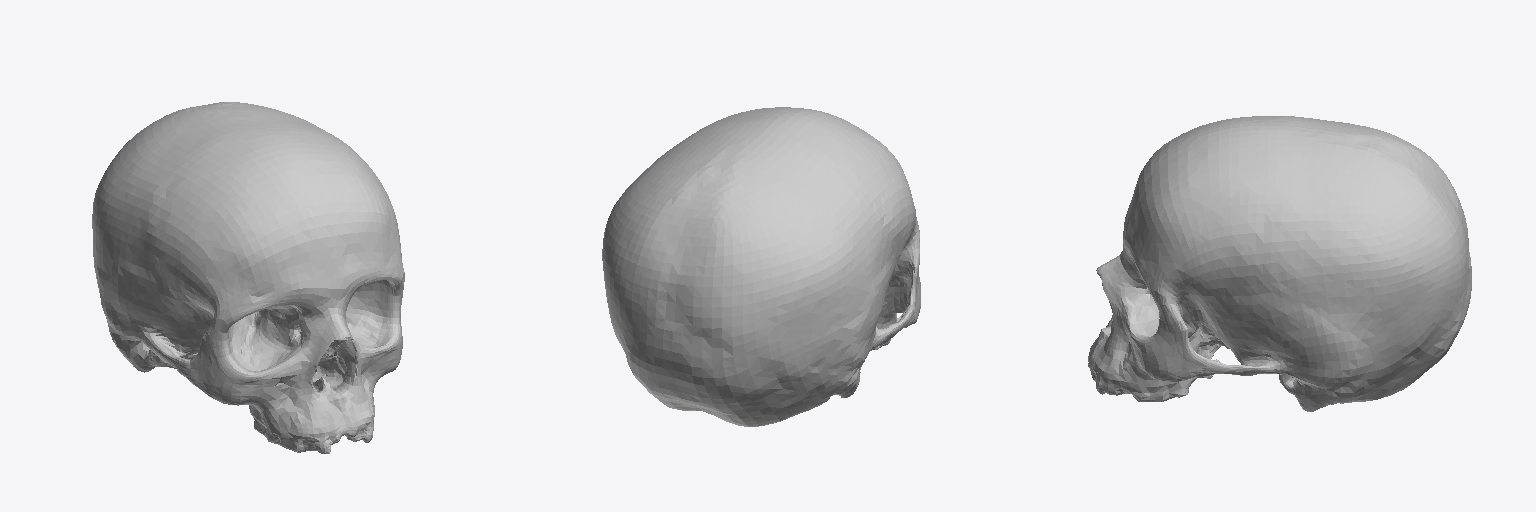
The model's file is Skull_4.obj.
The picture shows the model from 3 angles: view 1: azimuth 30°, elevation 25°; view 2: azimuth 150°, elevation 25°; view 3: azimuth 270°, elevation 25°; orthographic projection.
Visible parts, largest first — view 1: Skull_4_CM_skull_4.001; view 2: Skull_4_CM_skull_4.001; view 3: Skull_4_CM_skull_4.001.
Boxes of the visible parts, <box> form: Skull_4_CM_skull_4.001: <box>92,102,404,453</box>; Skull_4_CM_skull_4.001: <box>602,107,920,426</box>; Skull_4_CM_skull_4.001: <box>1088,116,1471,411</box>.
Bounding box in the file's own units: 10.61 × 10.48 × 14.32.